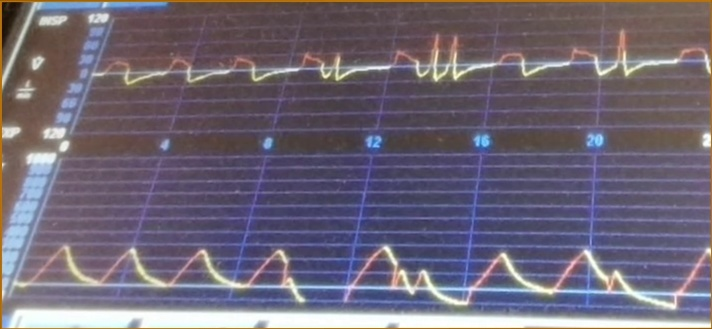Double_Triggering Flow: (106, 25, 710, 112)
Double_Triggering Volume: (28, 233, 712, 308)
